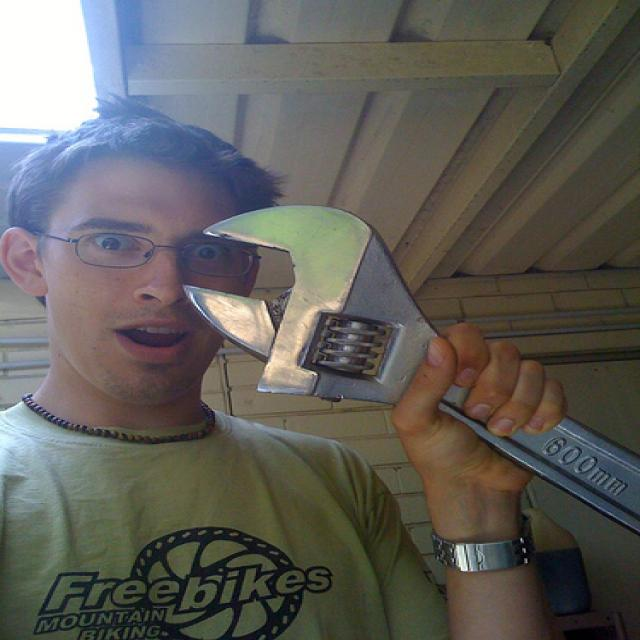wrench: (177, 202, 563, 430)
